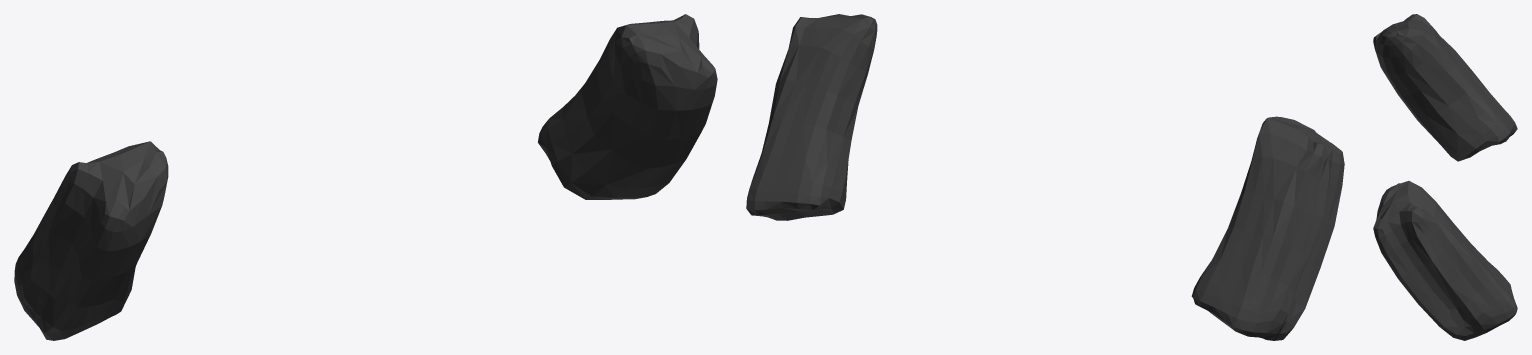
The model's file is R_max_PM4_LO.glb.
3 renders of one model, left to right at view 1: azimuth 30°, elevation 25°; view 2: azimuth 150°, elevation 25°; view 3: azimuth 270°, elevation 25°, orthographic. The views are drawn at different scales.
Parts seen in each view (by area): view 1: R_max_PM4_LO; view 2: R_max_PM4_LO; view 3: R_max_PM4_LO.
Boxes of the visible parts, x1,y1,x2,y2 form: R_max_PM4_LO: [14, 14, 717, 340]; R_max_PM4_LO: [746, 14, 1344, 340]; R_max_PM4_LO: [1373, 14, 1517, 340].
Size of the model in its own units: 0.00137 by 0.000443 by 0.000408.
Materials: 1 (1 with a texture image).
